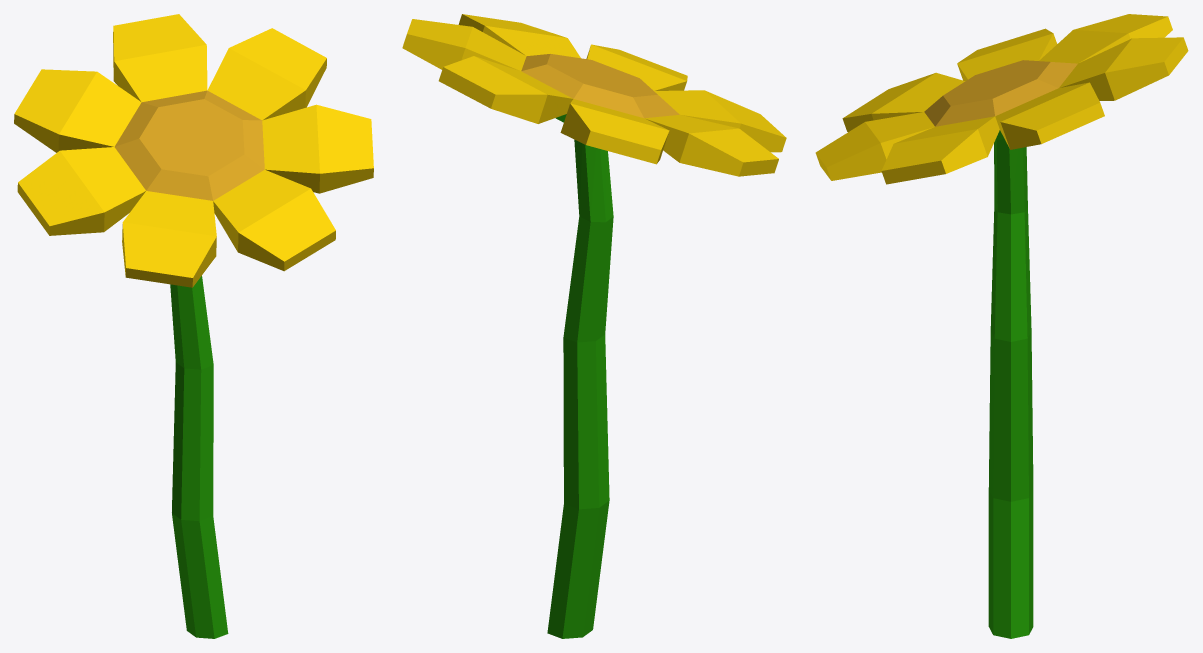
File: Vegetation_Verdant_Plant_Flower_01.FBX
3 views of the same model, side by side, from view 1: azimuth 30°, elevation 25°; view 2: azimuth 150°, elevation 25°; view 3: azimuth 270°, elevation 25° (orthographic). The views are drawn at different scales.
Parts seen in each view (by area): view 1: Vegetation_Verdant_Plant_Flower_01; view 2: Vegetation_Verdant_Plant_Flower_01; view 3: Vegetation_Verdant_Plant_Flower_01.
Boxes of the visible parts, box(x1,y1,x2,y2) form: Vegetation_Verdant_Plant_Flower_01: box(14, 14, 373, 638); Vegetation_Verdant_Plant_Flower_01: box(402, 14, 786, 638); Vegetation_Verdant_Plant_Flower_01: box(815, 14, 1188, 638).
Size of the model in its own units: 393 by 676 by 388.
